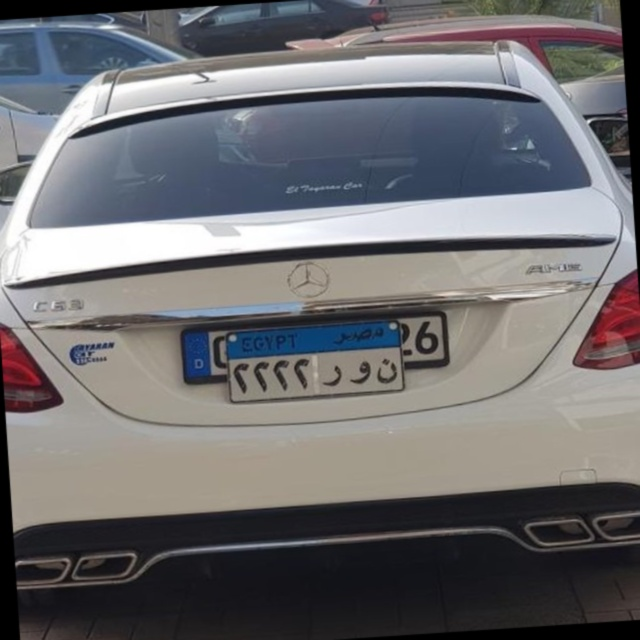License Plate: (222, 316, 408, 408)
